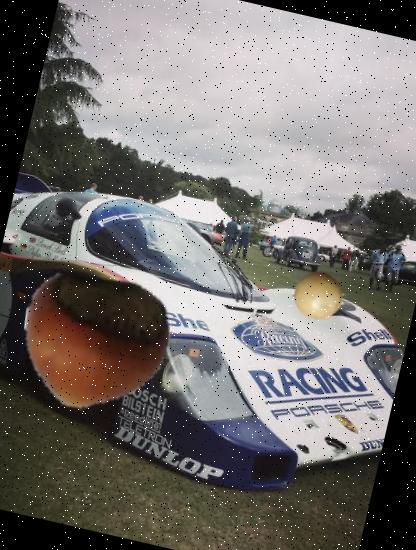Grapefruit: (288, 264, 350, 326)
Nut: (7, 256, 183, 432)
